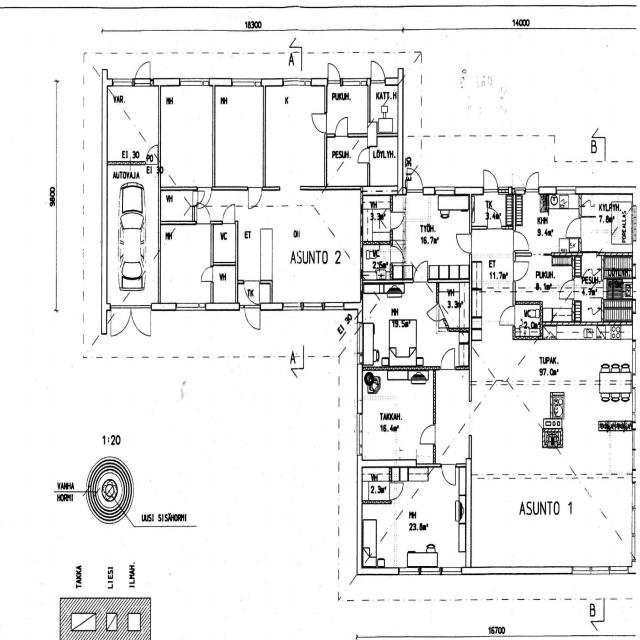door: (110, 304, 131, 339), (131, 304, 151, 339), (244, 303, 260, 333), (407, 165, 423, 194), (427, 302, 445, 327), (135, 56, 150, 85), (484, 167, 498, 194), (371, 58, 385, 84), (413, 259, 428, 283), (442, 463, 456, 487), (455, 234, 472, 253), (198, 186, 212, 209), (488, 206, 502, 229), (420, 424, 436, 444), (513, 231, 529, 250), (512, 262, 528, 281), (499, 306, 515, 325), (565, 218, 581, 237), (328, 60, 340, 85), (245, 280, 258, 303), (441, 347, 454, 370), (526, 170, 538, 194), (311, 114, 327, 132), (558, 280, 574, 298), (249, 186, 262, 208), (197, 202, 210, 224), (389, 482, 404, 499), (390, 212, 405, 229), (390, 245, 405, 262), (335, 116, 347, 137), (146, 145, 158, 165), (223, 204, 235, 224), (590, 281, 604, 297), (357, 148, 370, 164), (200, 266, 213, 281)
